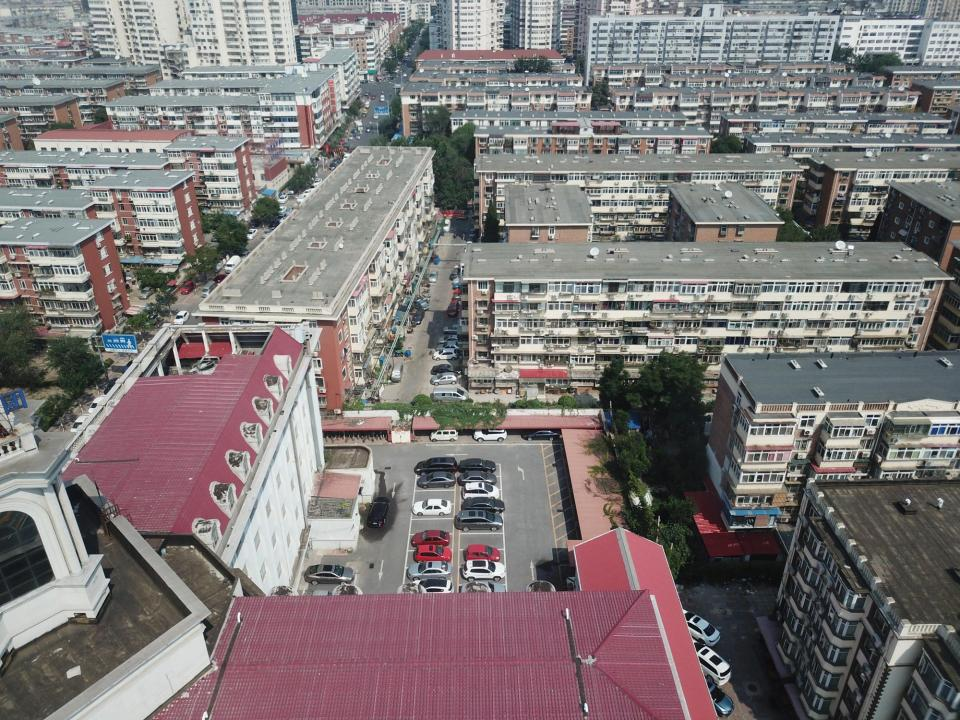car: (676, 635, 732, 686), (684, 674, 734, 718), (666, 606, 720, 646), (304, 564, 355, 586), (456, 510, 503, 532), (462, 559, 506, 582), (303, 590, 352, 609), (407, 560, 453, 580), (460, 582, 506, 600), (410, 579, 454, 597), (413, 544, 452, 564), (463, 496, 505, 514), (462, 482, 499, 502), (367, 497, 390, 528), (411, 530, 450, 548), (417, 471, 456, 489), (465, 545, 501, 564), (412, 499, 452, 516), (520, 425, 560, 441), (459, 470, 497, 486), (459, 458, 496, 474), (473, 426, 507, 442), (70, 414, 92, 434), (430, 372, 458, 385), (432, 364, 462, 376), (437, 334, 466, 346), (88, 395, 106, 414), (432, 348, 458, 360), (436, 342, 465, 352), (104, 377, 121, 394), (443, 324, 468, 335), (408, 299, 430, 311), (173, 310, 190, 325), (180, 281, 196, 295), (139, 286, 156, 299), (411, 310, 425, 325), (122, 360, 135, 374), (210, 229, 224, 242), (454, 283, 474, 292), (214, 274, 226, 289), (452, 293, 476, 300), (244, 228, 258, 240), (453, 288, 477, 294), (428, 270, 438, 283), (248, 218, 260, 228), (268, 220, 280, 230), (442, 219, 451, 232), (276, 212, 287, 222), (450, 268, 459, 280), (342, 153, 352, 163), (262, 229, 272, 238), (278, 195, 288, 204), (303, 189, 312, 198), (284, 207, 294, 215), (297, 194, 306, 202), (309, 184, 318, 192), (313, 178, 322, 186), (278, 206, 286, 214), (329, 162, 336, 170), (344, 140, 350, 148), (348, 133, 354, 140), (374, 112, 380, 119), (364, 101, 370, 108), (379, 94, 384, 102), (339, 139, 345, 145), (362, 109, 368, 115), (387, 76, 394, 81), (360, 80, 368, 84), (356, 133, 361, 139), (365, 127, 371, 132), (370, 94, 376, 99), (352, 127, 356, 134), (364, 92, 370, 96), (402, 73, 408, 77), (369, 78, 374, 82)
truck: (225, 255, 241, 273), (354, 120, 363, 131)
van: (416, 457, 458, 476), (432, 387, 468, 405), (430, 427, 458, 442), (201, 281, 217, 298), (446, 300, 460, 318), (390, 363, 403, 382), (393, 84, 401, 88), (405, 52, 408, 56)
